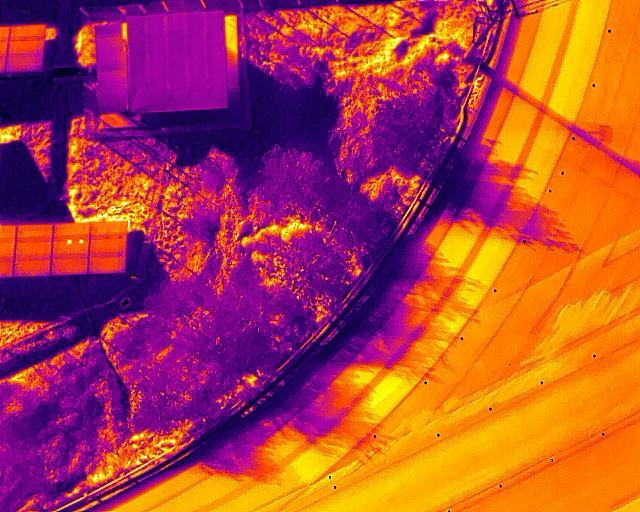Cell-Multi: (51, 239, 89, 255)
No-Anomaly: (51, 255, 89, 274), (15, 240, 51, 260), (6, 53, 43, 71), (89, 254, 125, 272), (90, 237, 126, 255), (14, 259, 51, 275), (90, 221, 127, 237), (16, 224, 52, 240), (8, 25, 45, 40), (53, 225, 90, 239), (7, 40, 43, 54)
